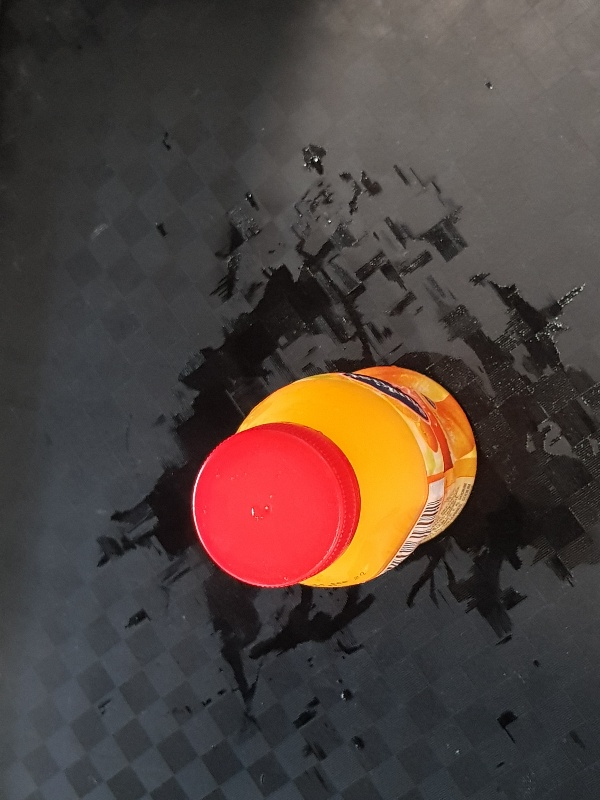Sunkist Orange Juice Drink: (192, 363, 478, 588)
